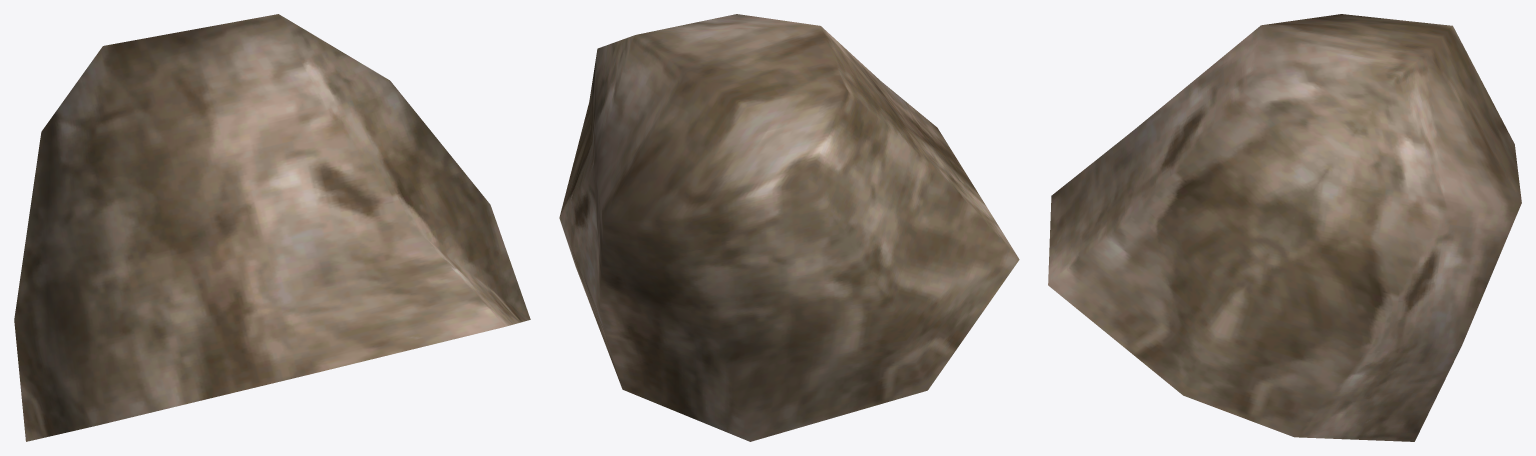
File: OVERHILL_A_01_ROCK34.fbx
The picture shows the model from 3 angles, left to right: view 1: azimuth 30°, elevation 25°; view 2: azimuth 150°, elevation 25°; view 3: azimuth 270°, elevation 25°; orthographic projection. The views are drawn at different scales.
Visible parts, largest first — view 1: OVERHILL_A_01_ROCK34; view 2: OVERHILL_A_01_ROCK34; view 3: OVERHILL_A_01_ROCK34.
Part boxes in pixels (x1,y1,x2,y2): OVERHILL_A_01_ROCK34: [14, 14, 530, 441]; OVERHILL_A_01_ROCK34: [559, 14, 1019, 441]; OVERHILL_A_01_ROCK34: [1048, 14, 1521, 441].
Size of the model in its own units: 27805 by 23375 by 26862.
Materials: 1 (1 with a texture image).
